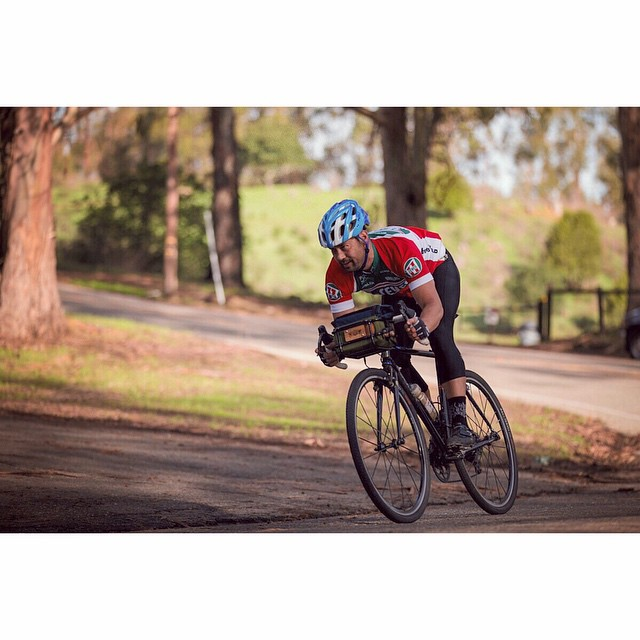helmet: (312, 199, 375, 249)
